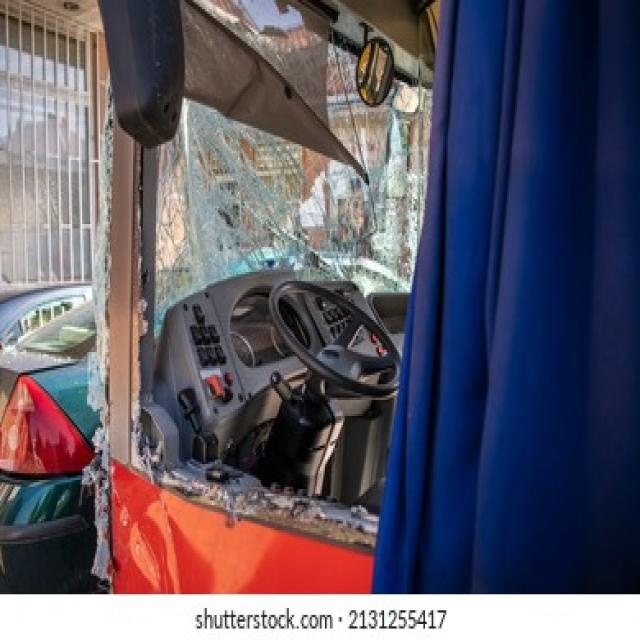Accident: (67, 0, 638, 592)
